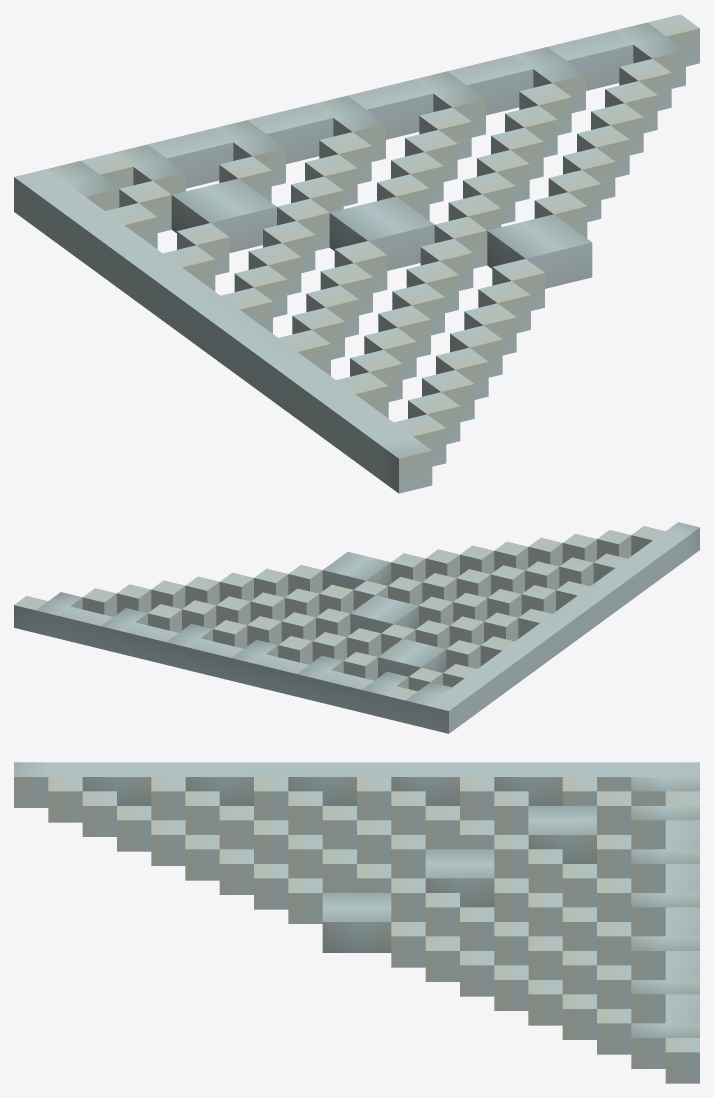
Rendered from Cobweb_02.obj.
The picture shows the model from 3 angles, top to bottom: view 1: azimuth 30°, elevation 25°; view 2: azimuth 150°, elevation 25°; view 3: azimuth 270°, elevation 25°; orthographic projection. The views are drawn at different scales.
Parts seen in each view (by area): view 1: Cobweb_02; view 2: Cobweb_02; view 3: Cobweb_02.
Part boxes in pixels (<box>): Cobweb_02: <box>14,14,699,493</box>; Cobweb_02: <box>14,522,699,733</box>; Cobweb_02: <box>14,762,699,1083</box>.
Size of the model in its own units: 1 by 0.05 by 1.
